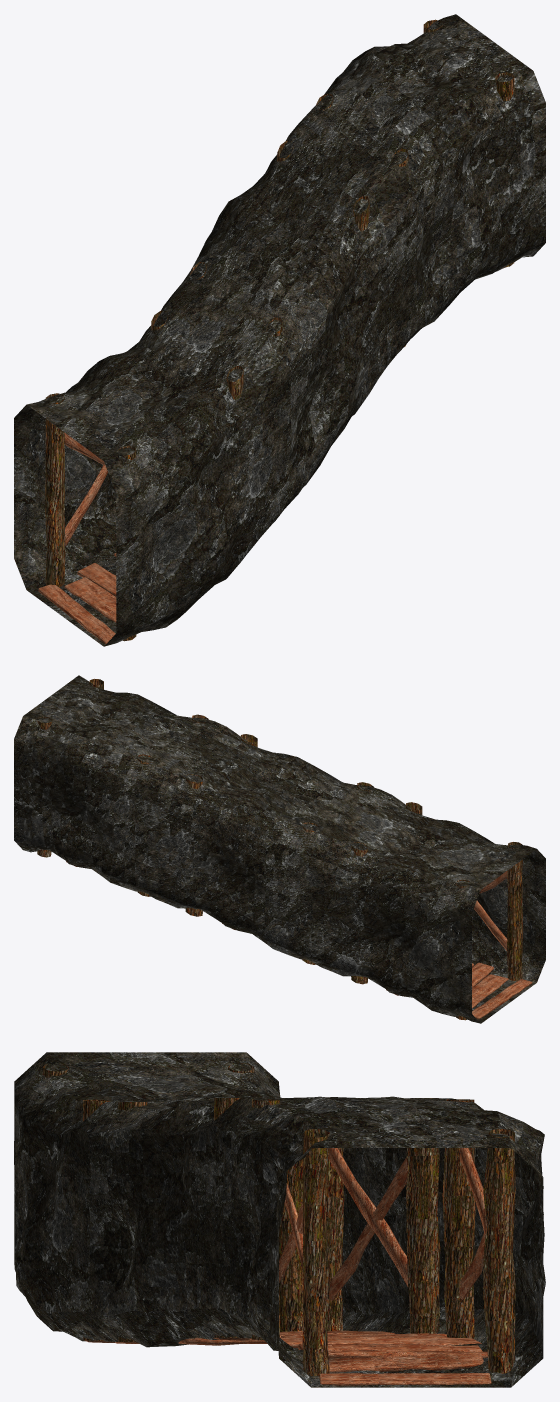
The model's file is Cave_025.fbx.
3 views of the same model, one above another, from view 1: azimuth 30°, elevation 25°; view 2: azimuth 150°, elevation 25°; view 3: azimuth 270°, elevation 25° (orthographic). The views are drawn at different scales.
Parts seen in each view (by area): view 1: Cave.025; view 2: Cave.025; view 3: Cave.025.
Boxes of the visible parts, x1,y1,x2,y2 form: Cave.025: (14, 14, 545, 646); Cave.025: (14, 675, 545, 1023); Cave.025: (14, 1052, 545, 1387).
Bounding box in the file's own units: 900 × 604 × 603.
